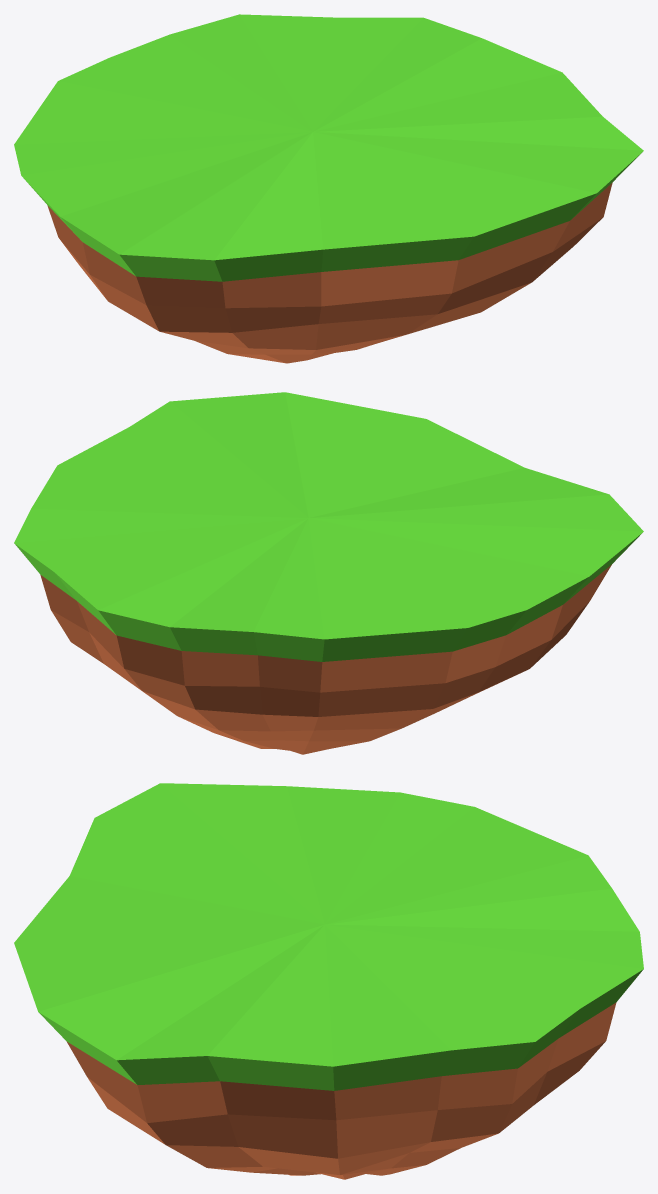
Rendered from Island2.fbx.
3 views of the same model, one above another, from view 1: azimuth 30°, elevation 25°; view 2: azimuth 150°, elevation 25°; view 3: azimuth 270°, elevation 25° (orthographic). The views are drawn at different scales.
Parts seen in each view (by area): view 1: Island 2; view 2: Island 2; view 3: Island 2.
Part boxes in pixels (box(x1,y1,x2,y2)): Island 2: box(14, 14, 643, 363); Island 2: box(14, 392, 643, 754); Island 2: box(14, 783, 643, 1179).
Bounding box in the file's own units: 1313 × 517 × 1241.
